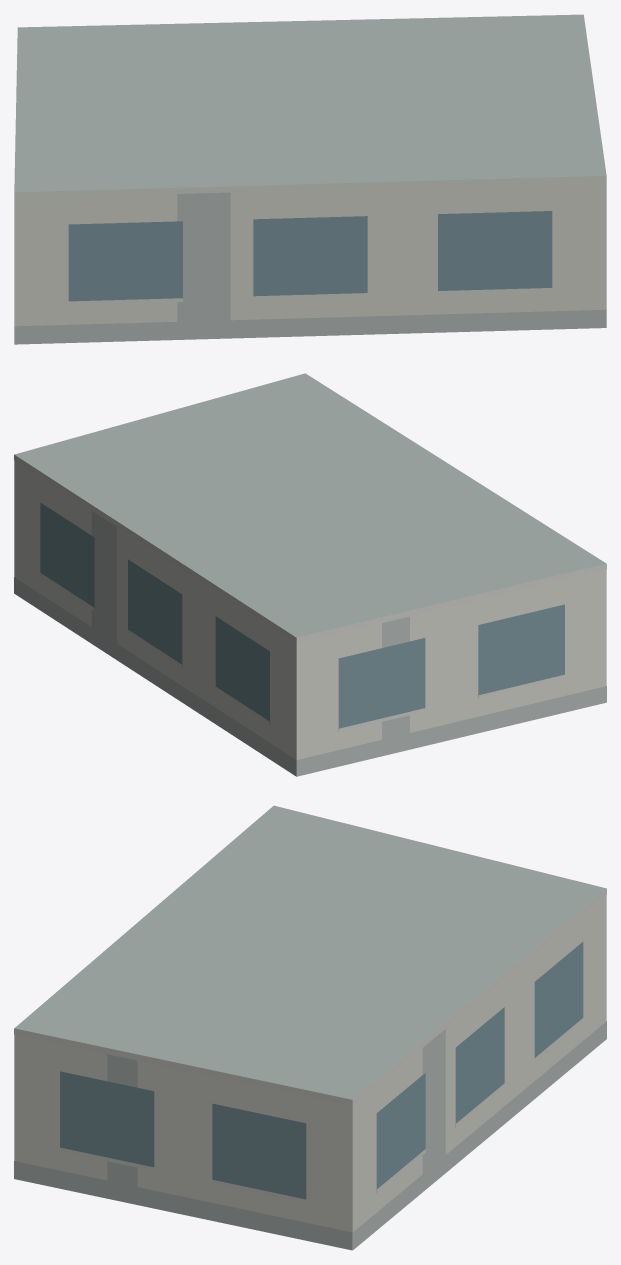
Rendered from residential-5de065d0-46d7-45c8-9218-41931388101f.glb.
3 renders of one model, top to bottom at view 1: azimuth 30°, elevation 25°; view 2: azimuth 150°, elevation 25°; view 3: azimuth 270°, elevation 25°, orthographic. The views are drawn at different scales.
Visible parts, largest first — view 1: residential-5de065d0-46d7-45c8-9218-41931388101f.tmp; view 2: residential-5de065d0-46d7-45c8-9218-41931388101f.tmp; view 3: residential-5de065d0-46d7-45c8-9218-41931388101f.tmp.
Boxes of the visible parts, <box> form: residential-5de065d0-46d7-45c8-9218-41931388101f.tmp: <box>14,14,606,344</box>; residential-5de065d0-46d7-45c8-9218-41931388101f.tmp: <box>14,373,606,776</box>; residential-5de065d0-46d7-45c8-9218-41931388101f.tmp: <box>14,805,606,1250</box>.
Size of the model in its own units: 12.79 by 3.05 by 10.89.
